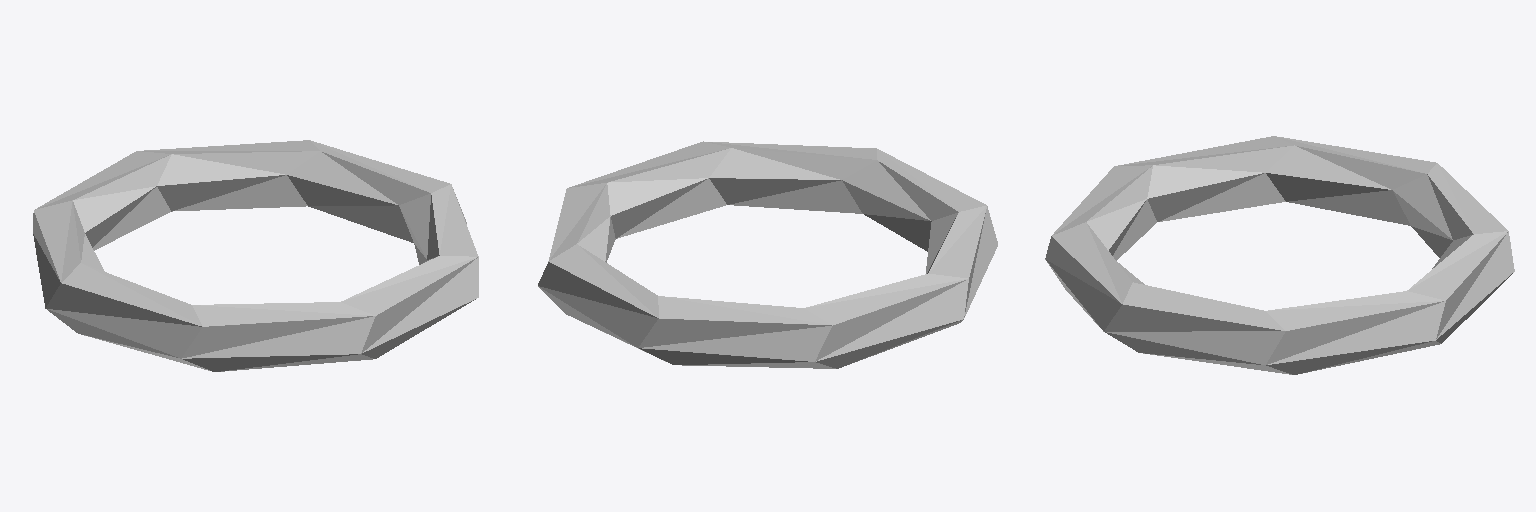
The model's file is death ring.obj.
3 renders of one model, left to right at view 1: azimuth 30°, elevation 25°; view 2: azimuth 150°, elevation 25°; view 3: azimuth 270°, elevation 25°, orthographic.
Parts seen in each view (by area): view 1: death_Cube.005; view 2: death_Cube.005; view 3: death_Cube.005.
Boxes of the visible parts, x1=… form: death_Cube.005: x1=33, y1=140, x2=478, y2=371; death_Cube.005: x1=538, y1=141, x2=997, y2=368; death_Cube.005: x1=1045, y1=136, x2=1514, y2=374.
Size of the model in its own units: 13.52 by 1.83 by 13.52.